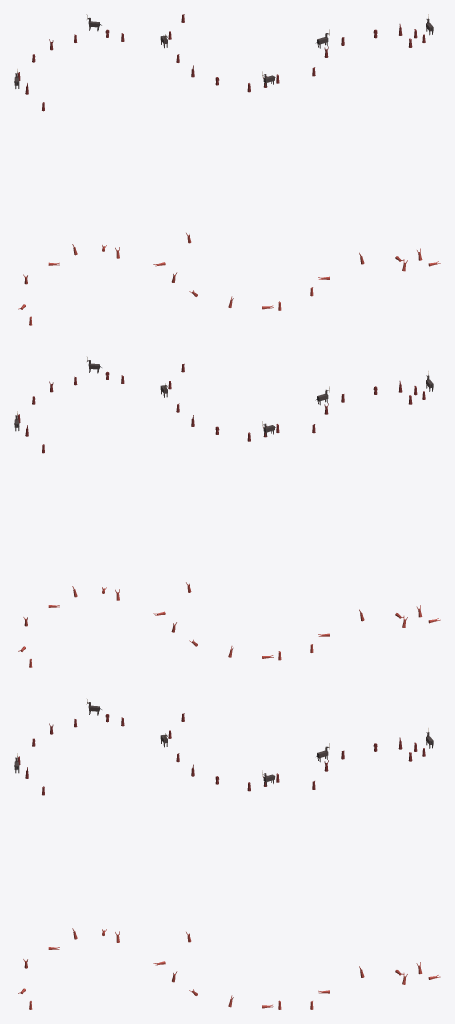
The model's file is Circle7Folk1.obj.
3 renders of one model, left to right at view 1: azimuth 30°, elevation 25°; view 2: azimuth 150°, elevation 25°; view 3: azimuth 330°, elevation 25°, orthographic. The views are drawn at different scales.
Visible parts, largest first — view 1: Circle7Folk1; view 2: Circle7Folk1; view 3: Circle7Folk1.
Part boxes in pixels (<box>): Circle7Folk1: <box>14,14,124,1009</box>; Circle7Folk1: <box>153,14,281,1009</box>; Circle7Folk1: <box>310,14,440,1009</box>.
Bounding box in the file's own units: 28.95 × 251 × 18.75.
1 material, 1 textured.
